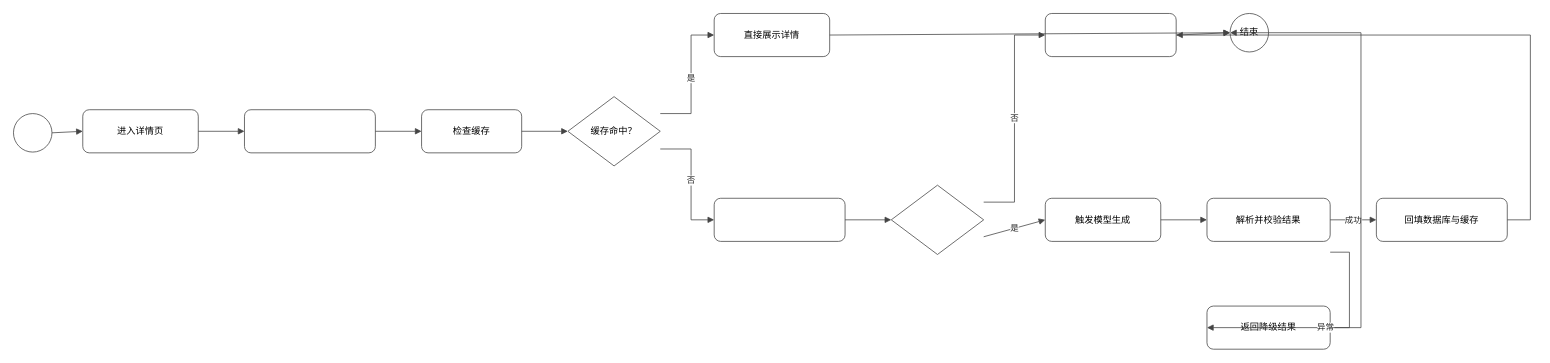
Some shapes in this 1550 by 363 pixel diagram are drawn without their labels. Each missing label, with the centre of its shape:
"内容缺失？" goes at (937,219).
"开始" goes at (32,132).
"查询数据库/元数据" goes at (779,219).
"请求基础词条信息" goes at (309,131).
"返回详情页展示" goes at (1110,35).
